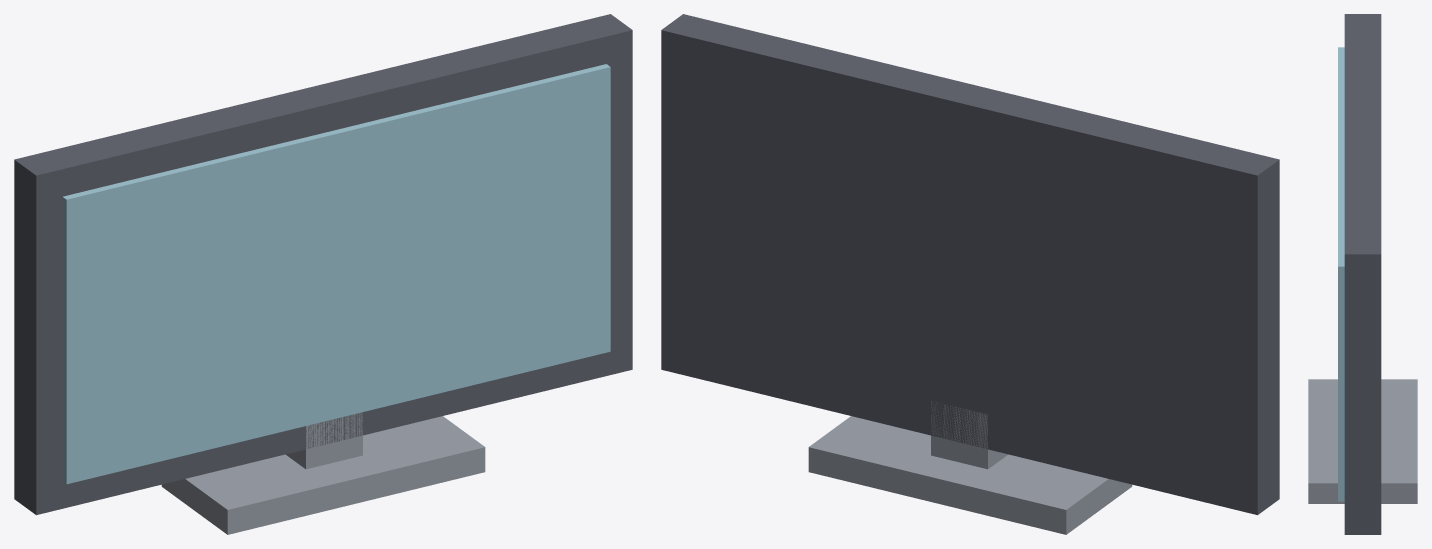
3 views of the same model, side by side, from view 1: azimuth 30°, elevation 25°; view 2: azimuth 150°, elevation 25°; view 3: azimuth 270°, elevation 25° (orthographic). The views are drawn at different scales.
Visible parts, largest first — view 1: Panel, Screen, Base, Stem; view 2: Screen, Base, Stem; view 3: Screen, Base, Panel.
Boxes of the visible parts, x1,y1,x2,y2 form: Panel: (62,64,610,484); Screen: (14,14,632,515); Base: (161,416,485,534); Stem: (285,412,362,469); Screen: (661,14,1279,515); Base: (808,416,1132,534); Stem: (931,401,1008,469); Screen: (1344,14,1381,534); Base: (1308,379,1417,503); Panel: (1338,47,1344,501).
Bounding box in the file's own units: 1.25 × 0.77 × 0.24.
